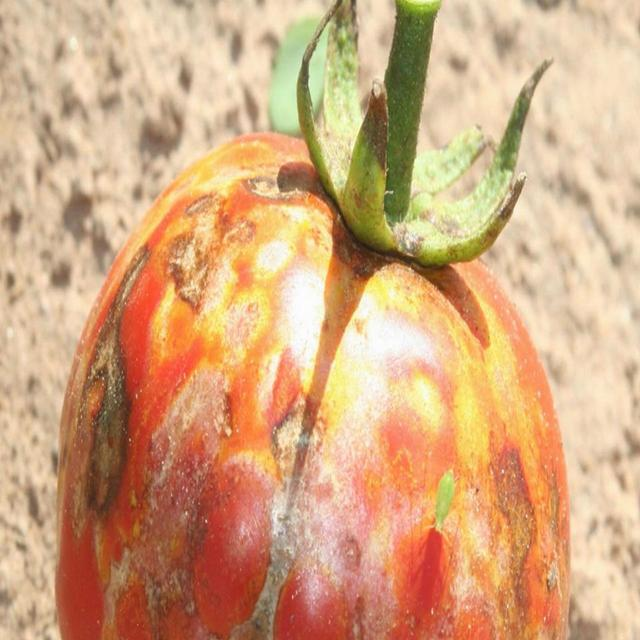Spotted wilt Virus Fruit: (188, 220, 567, 633)
